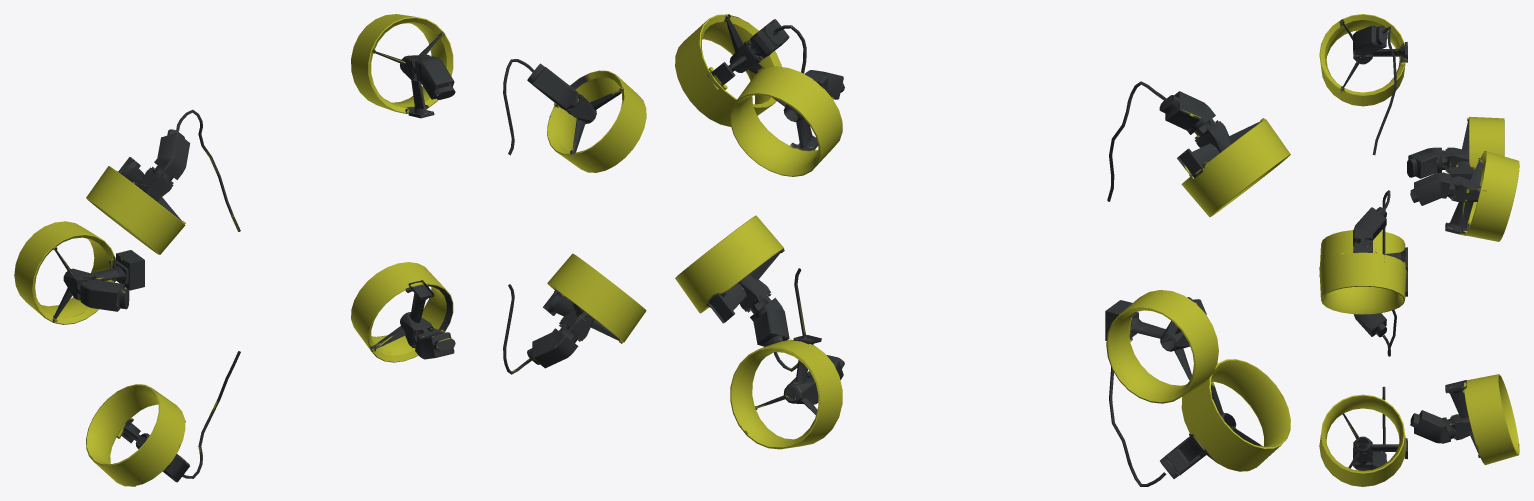
File: ricketts_ducts.obj
3 views of the same model, side by side, from view 1: azimuth 30°, elevation 25°; view 2: azimuth 150°, elevation 25°; view 3: azimuth 270°, elevation 25° (orthographic). The views are drawn at different scales.
Visible parts, largest first — view 1: Ducts.001; view 2: Ducts.001; view 3: Ducts.001.
Part boxes in pixels (x1,y1,x2,y2): Ducts.001: [14, 14, 646, 486]; Ducts.001: [675, 14, 1290, 486]; Ducts.001: [1319, 14, 1519, 486].
Size of the model in its own units: 3.01 by 1.94 by 1.07.
1 material, 1 textured.
